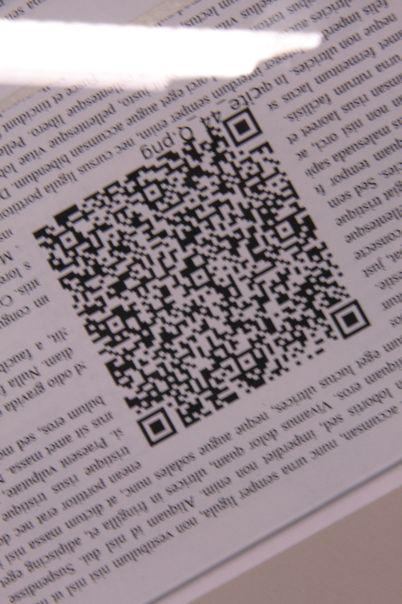Finder pattern: (215, 105, 268, 149), (328, 298, 375, 344), (135, 406, 179, 451)
